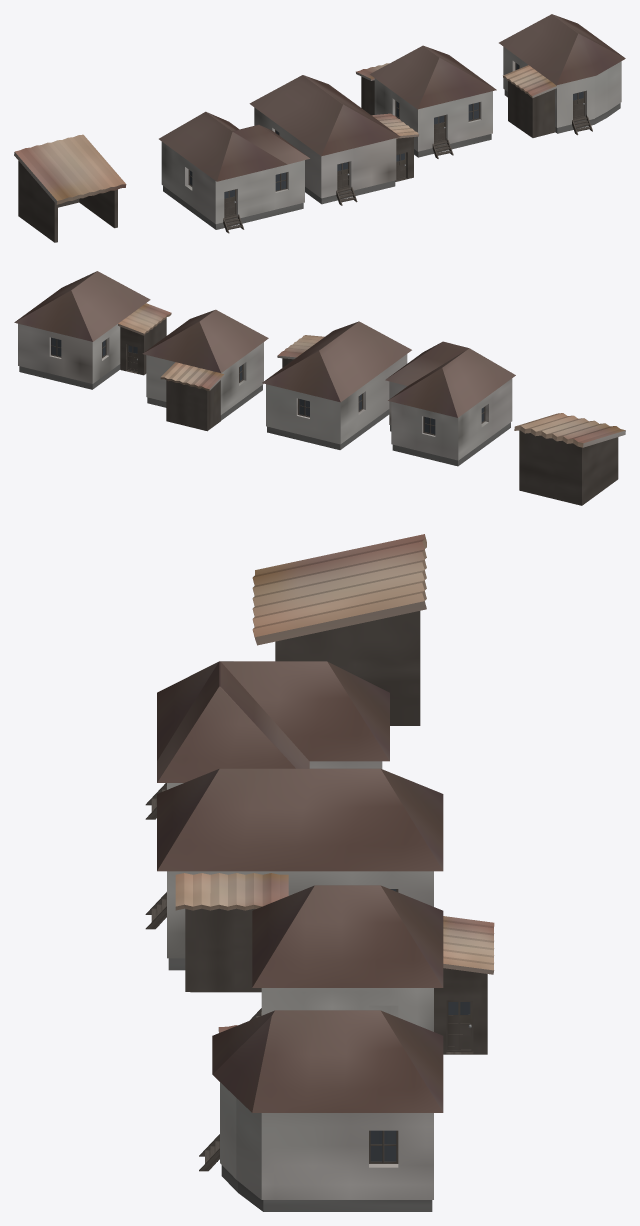
Rendered from House1.fbx.
3 views of the same model, one above another, from view 1: azimuth 30°, elevation 25°; view 2: azimuth 150°, elevation 25°; view 3: azimuth 270°, elevation 25° (orthographic). The views are drawn at different scales.
Parts seen in each view (by area): view 1: Cube.026, Cube.036, Cube.029, Cube.016, Cube.063, Cube.008, Cube.019, Cube, Cube.009, Cube.062, Cube.010, Cube.011 (+11 smaller); view 2: Cube.026, Cube.036, Cube.062, Cube.029, Cube.019, Cube.016, Cube.008, Cube.009, Cube, Cube.001, Cube.063, Cube.010 (+7 smaller); view 3: Cube.026, Cube.036, Cube.016, Cube.008, Cube.009, Cube.063, Cube.062, Cube.020, Cube, Cube.019, Cube.021, Cube.001 (+4 smaller).
Part boxes in pixels (<box>): Cube.026: <box>249,75,400,156</box>; Cube.036: <box>159,111,309,181</box>; Cube.029: <box>161,142,304,223</box>; Cube.016: <box>499,14,625,85</box>; Cube.063: <box>14,134,126,204</box>; Cube.008: <box>370,45,496,109</box>; Cube.019: <box>254,107,396,198</box>; Cube: <box>374,78,492,151</box>; Cube.009: <box>503,47,621,127</box>; Cube.062: <box>18,161,117,242</box>; Cube.010: <box>508,81,555,137</box>; Cube.011: <box>503,65,556,98</box>; Cube.026: <box>262,321,411,402</box>; Cube.036: <box>385,341,515,417</box>; Cube.062: <box>519,430,618,505</box>; Cube.029: <box>389,378,512,460</box>; Cube.019: <box>266,354,407,444</box>; Cube.016: <box>14,271,150,341</box>; Cube.008: <box>142,309,268,372</box>; Cube.009: <box>18,323,120,383</box>; Cube: <box>146,342,263,414</box>; Cube.001: <box>166,380,220,431</box>; Cube.063: <box>514,413,625,447</box>; Cube.010: <box>120,318,166,375</box>; Cube.026: <box>157,768,443,871</box>; Cube.036: <box>157,661,389,782</box>; Cube.016: <box>212,1010,443,1112</box>; Cube.008: <box>252,885,443,987</box>; Cube.009: <box>220,1082,433,1199</box>; Cube.063: <box>252,534,426,645</box>; Cube.062: <box>275,611,420,725</box>; Cube.020: <box>185,908,261,992</box>; Cube: <box>261,988,433,1031</box>; Cube.019: <box>167,871,433,958</box>; Cube.021: <box>175,873,288,910</box>; Cube.001: <box>434,968,487,1054</box>.
Size of the model in its own units: 10289 by 1439 by 2748.
Materials: 7 (6 with a texture image).
